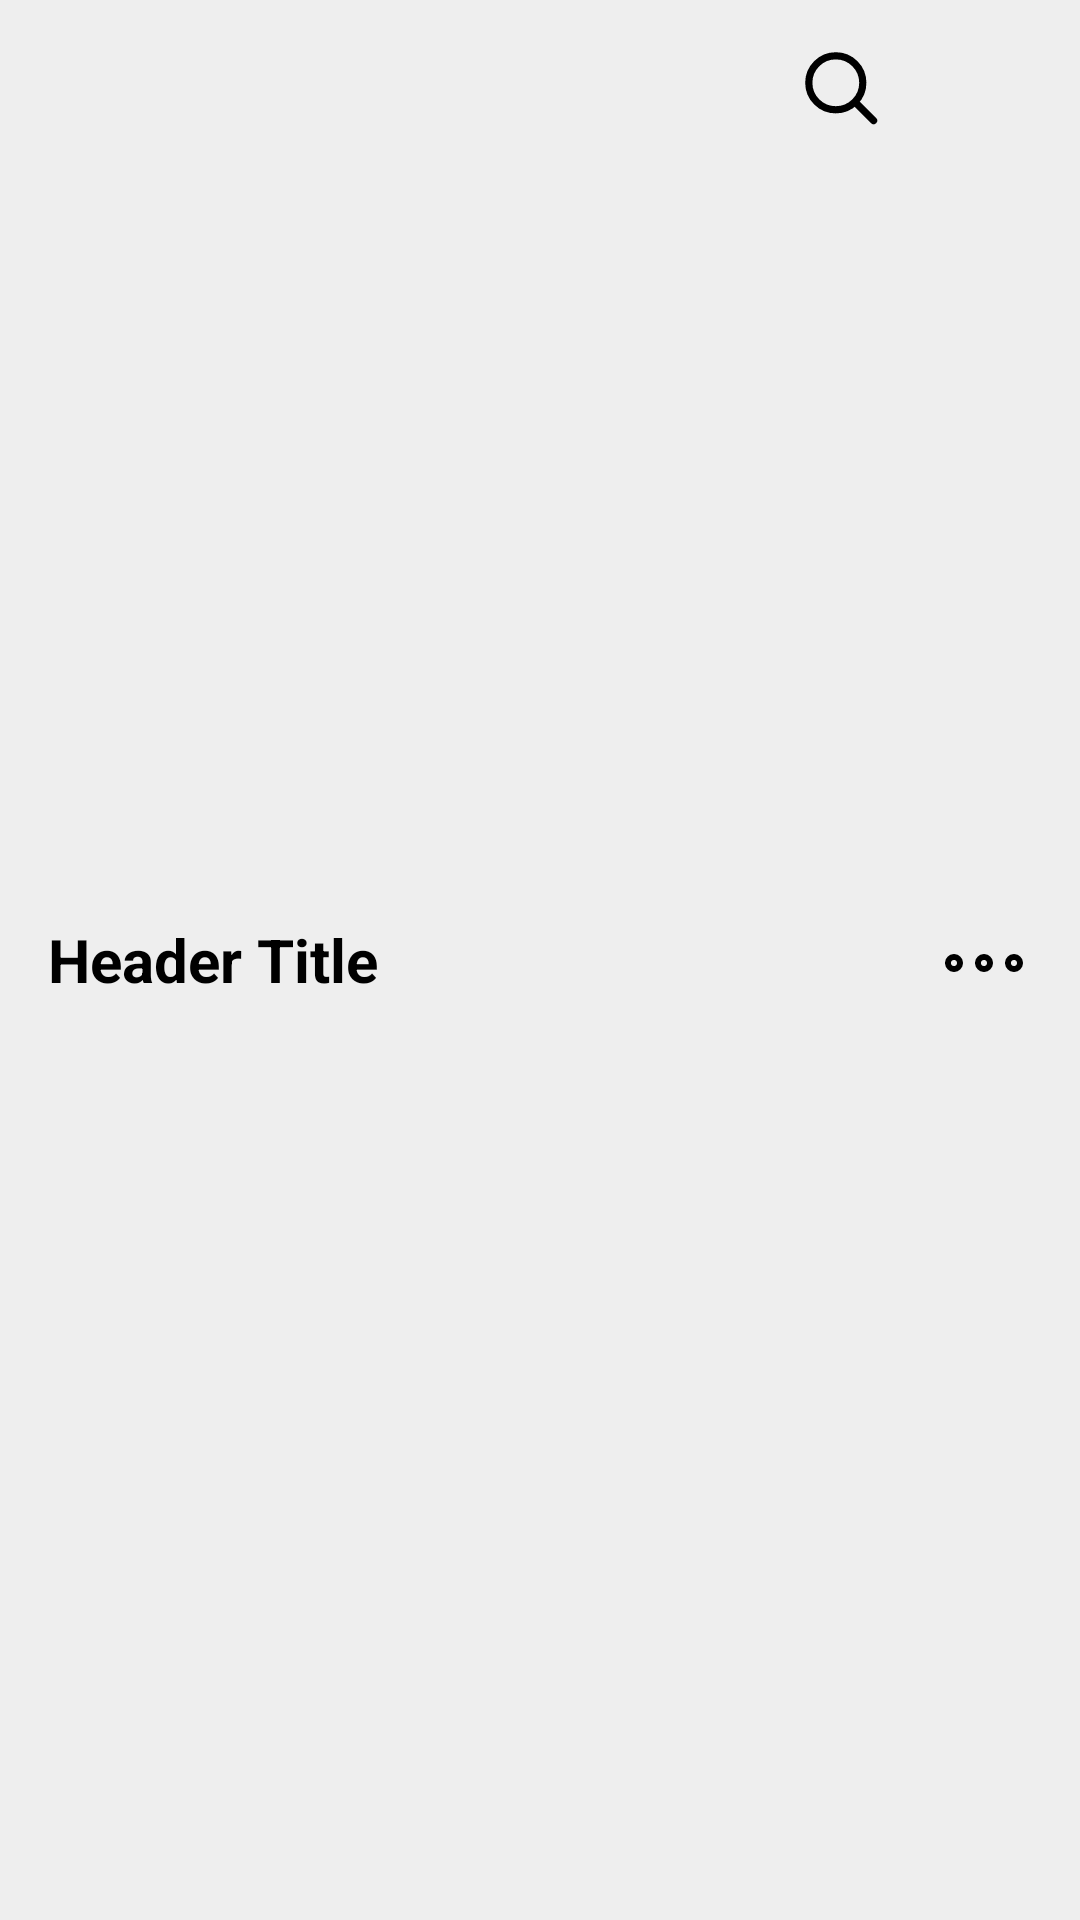

Where to tap for icons on this 1080 × 1920 app screen, as (x=x, y=y):
dot: (x=984, y=963)
search: (x=841, y=88)
